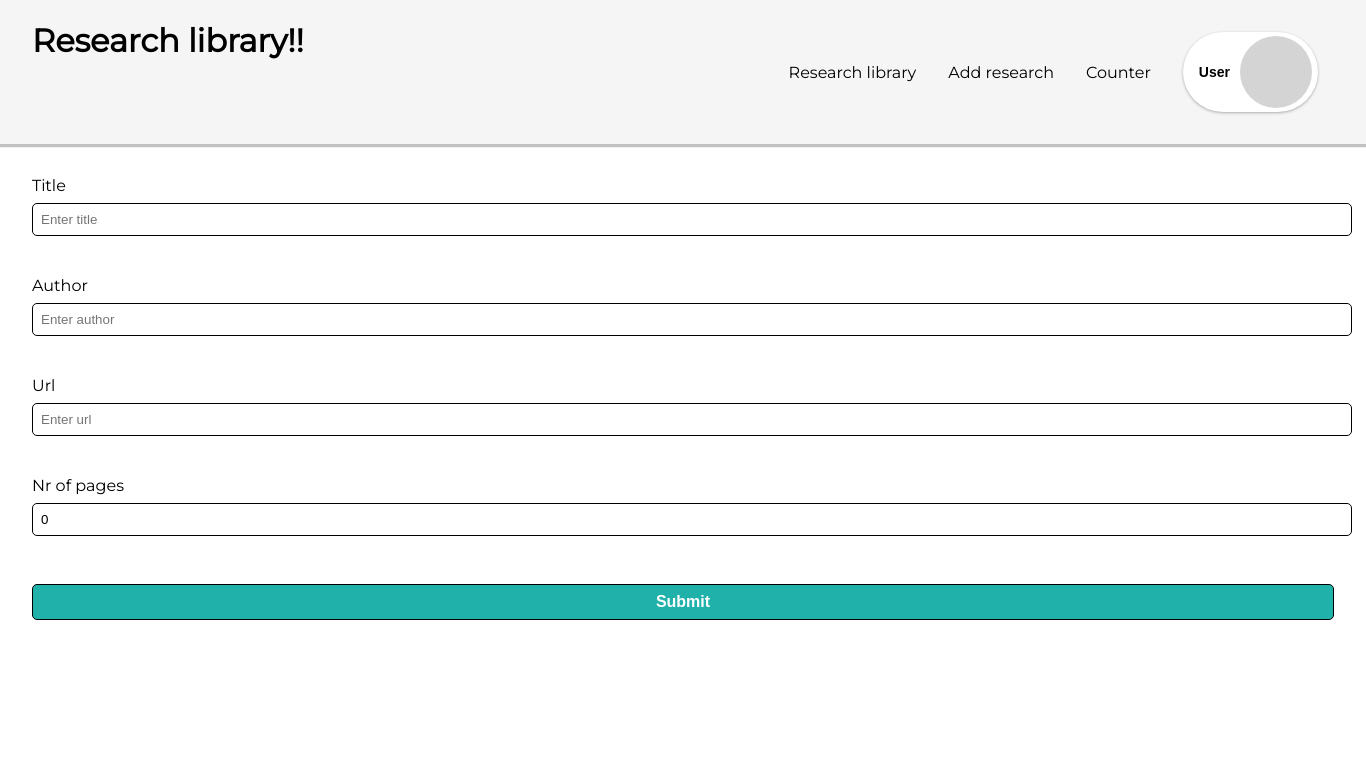
Scenario: Index testen › Add research tests › Test Fieldwidths
Type "ThisStringIs30CharactersLong!!ThisPartIsToLong" into the field with id "inputTitle" at (692, 220), box [32,203,1352,236]
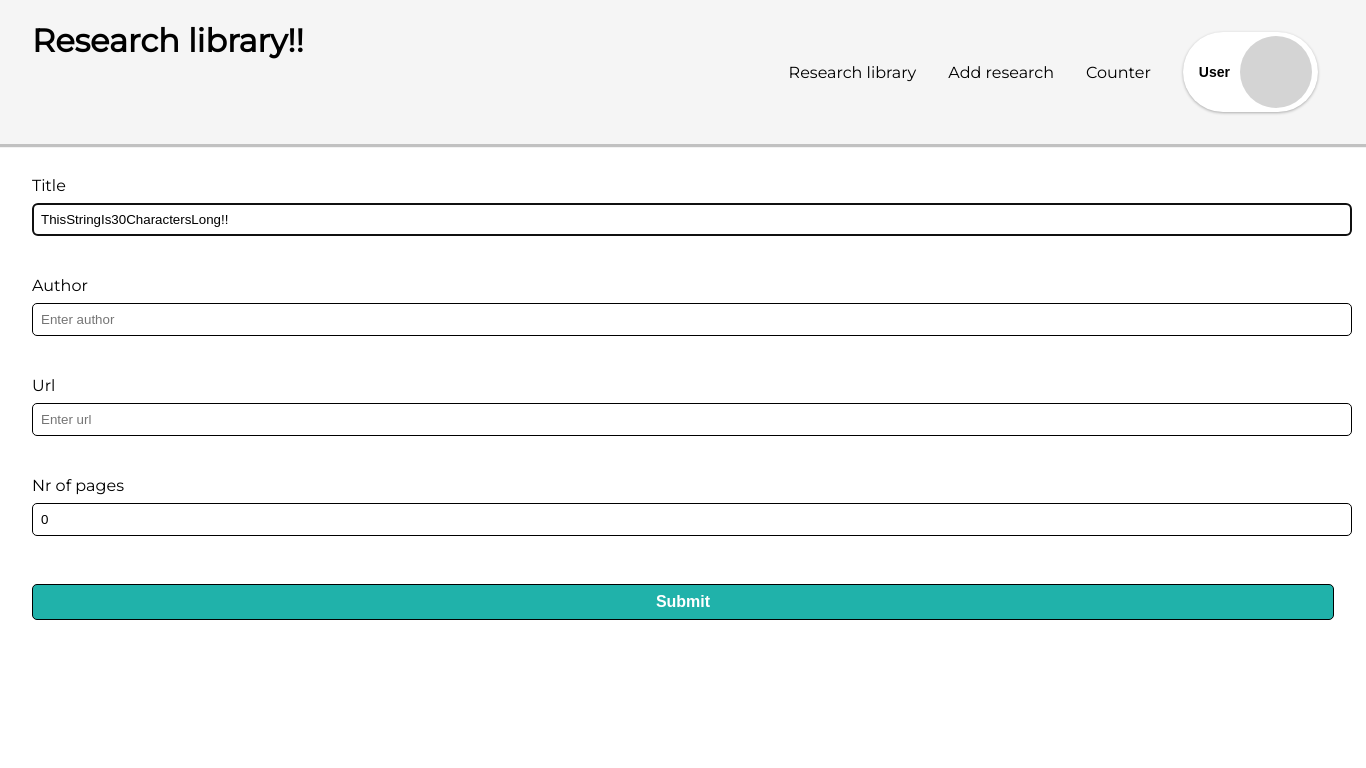
Check: the field with id "inputTitle" holds "ThisStringIs30CharactersLong!!", box [32,203,1352,236]
